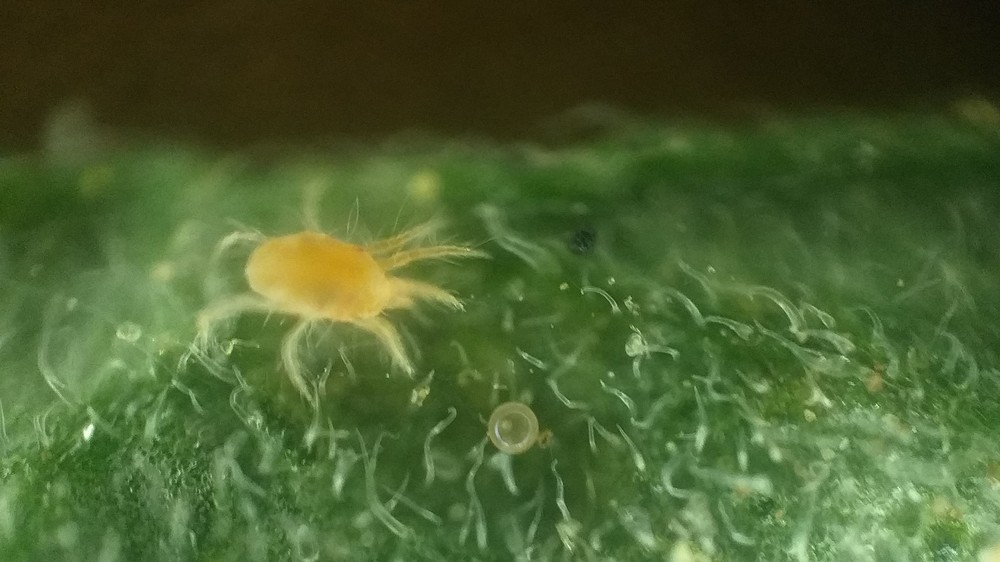Aracnido Rojo: (177, 176, 483, 412)
